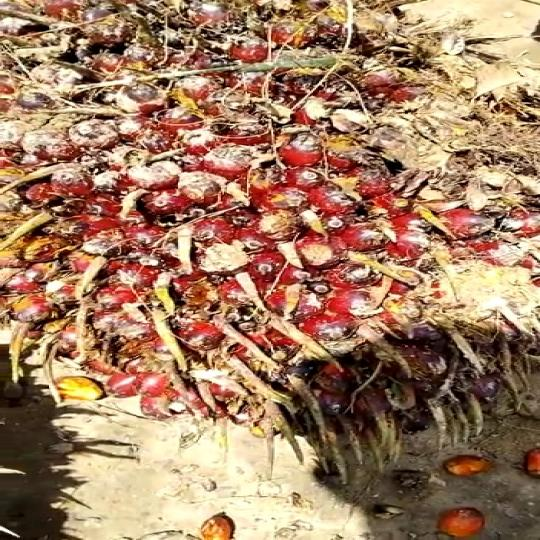masak: (0, 0, 540, 456)
